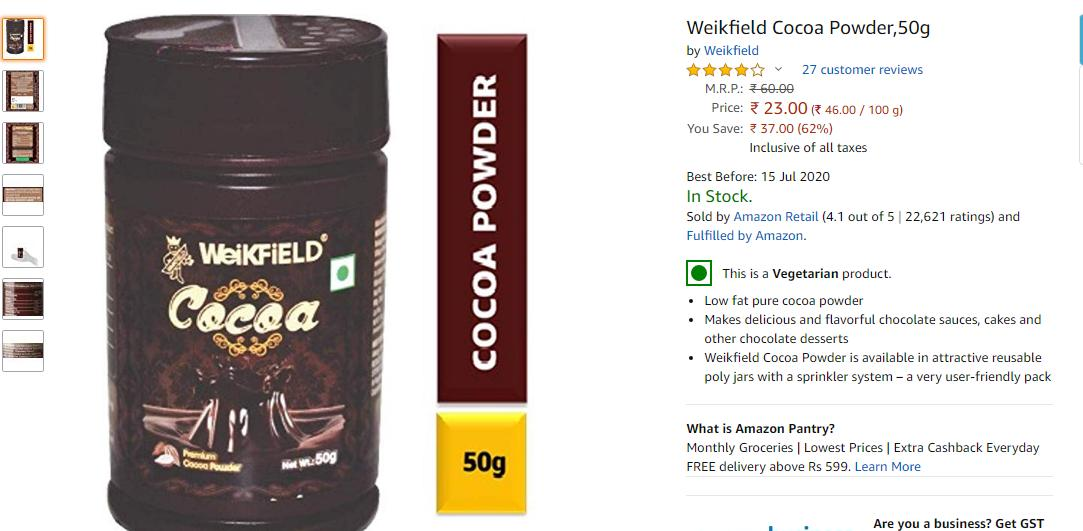Cocoa Powder: (102, 10, 392, 531)
